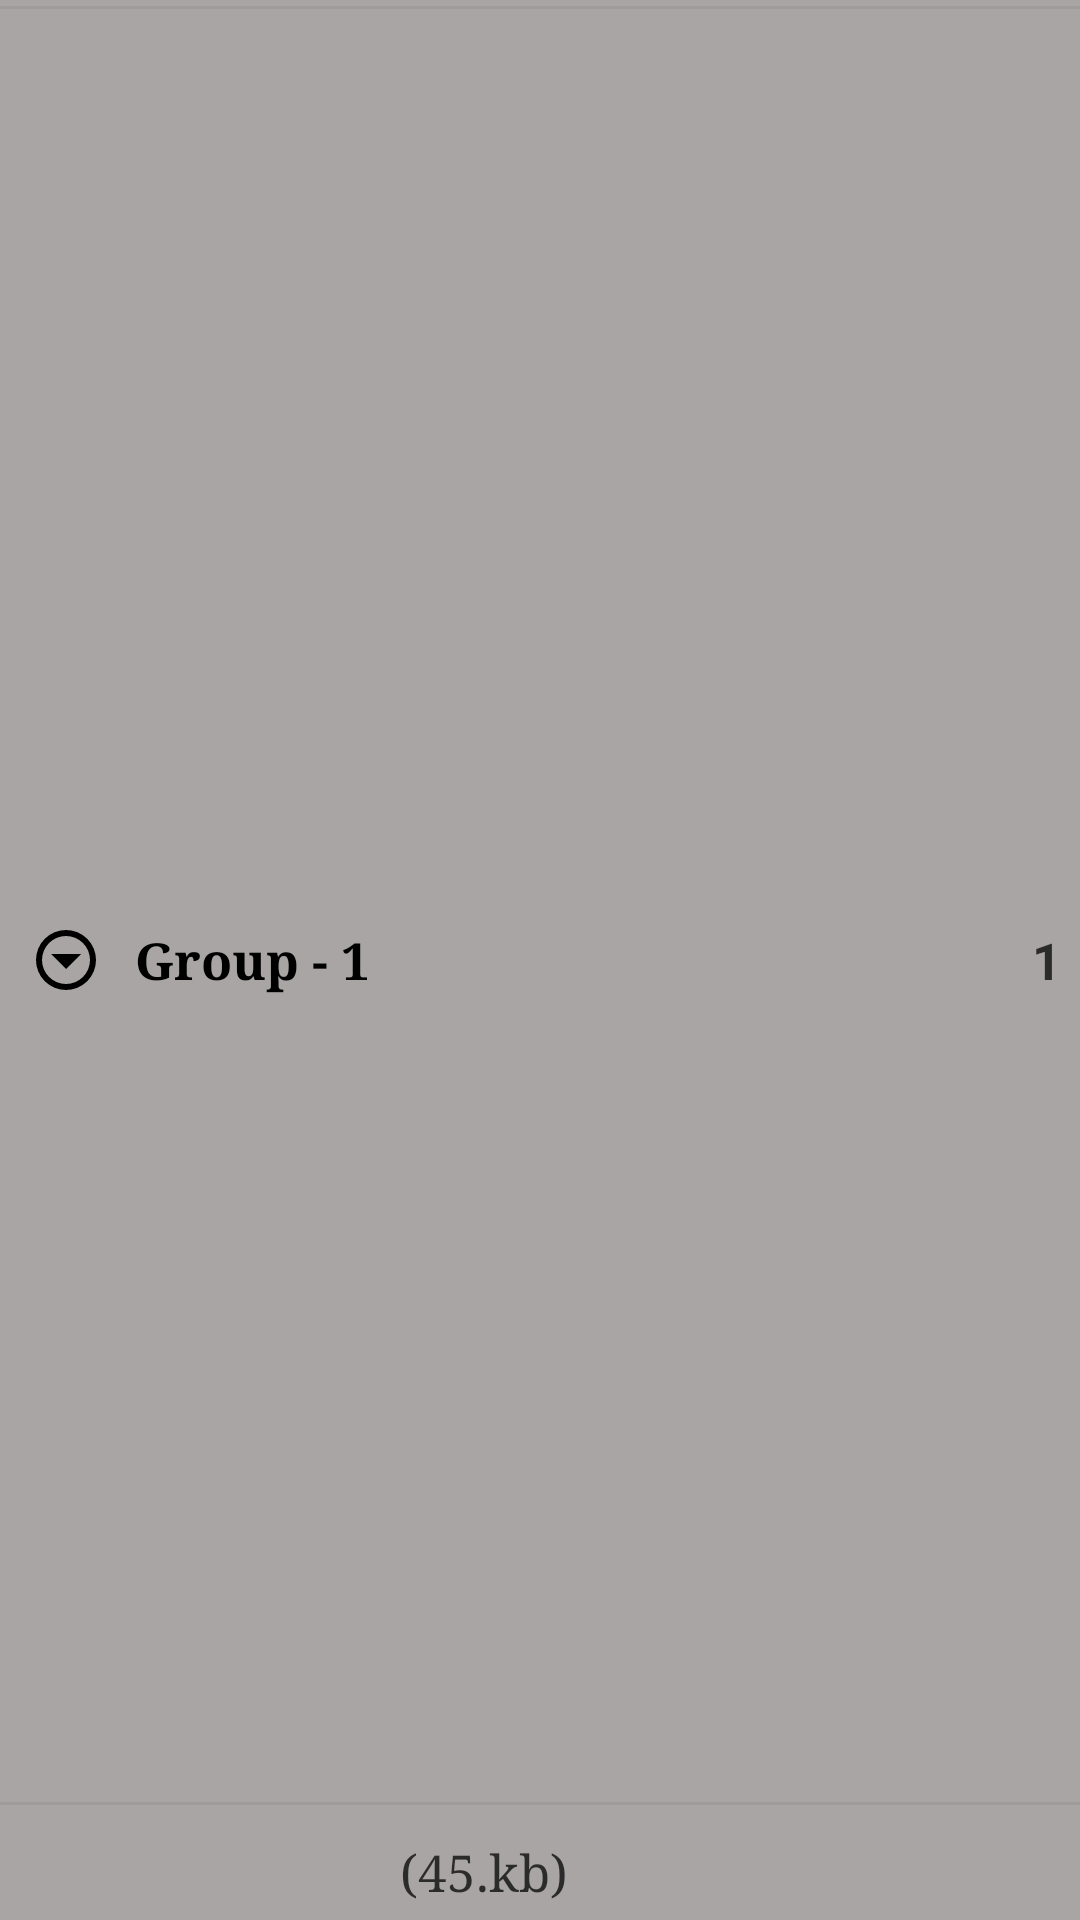

Screen size 1080*1920. Icon name, then its box in pixels as (x1, y1, x2, y2):
arrow down: (36, 930, 96, 990)
